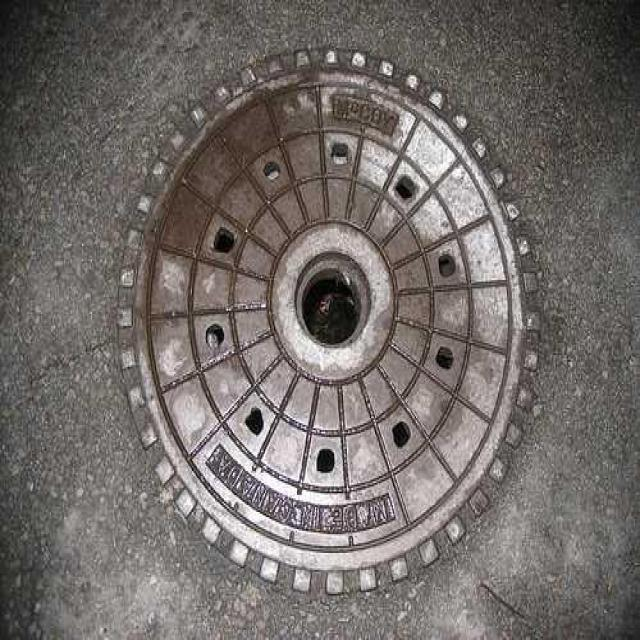manhole: (118, 50, 540, 594)
